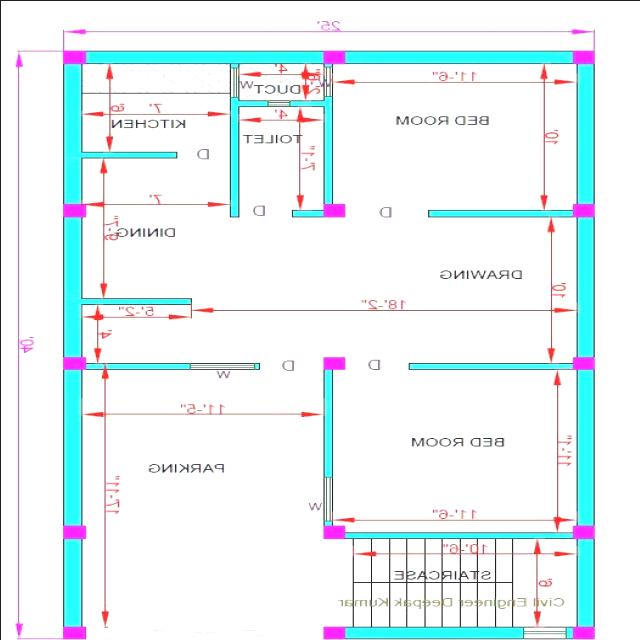column: (56, 46, 88, 66), (318, 352, 348, 373), (318, 623, 352, 640), (566, 353, 598, 371), (567, 47, 597, 66), (318, 522, 349, 540), (320, 200, 350, 218), (568, 200, 598, 218), (60, 522, 90, 540), (568, 522, 598, 540), (59, 200, 88, 218), (566, 623, 598, 639), (58, 353, 88, 370), (320, 48, 348, 66), (59, 624, 90, 640)
